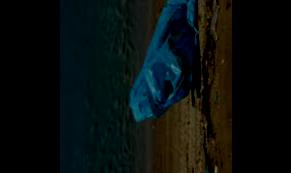Plastic: (126, 0, 200, 129)
